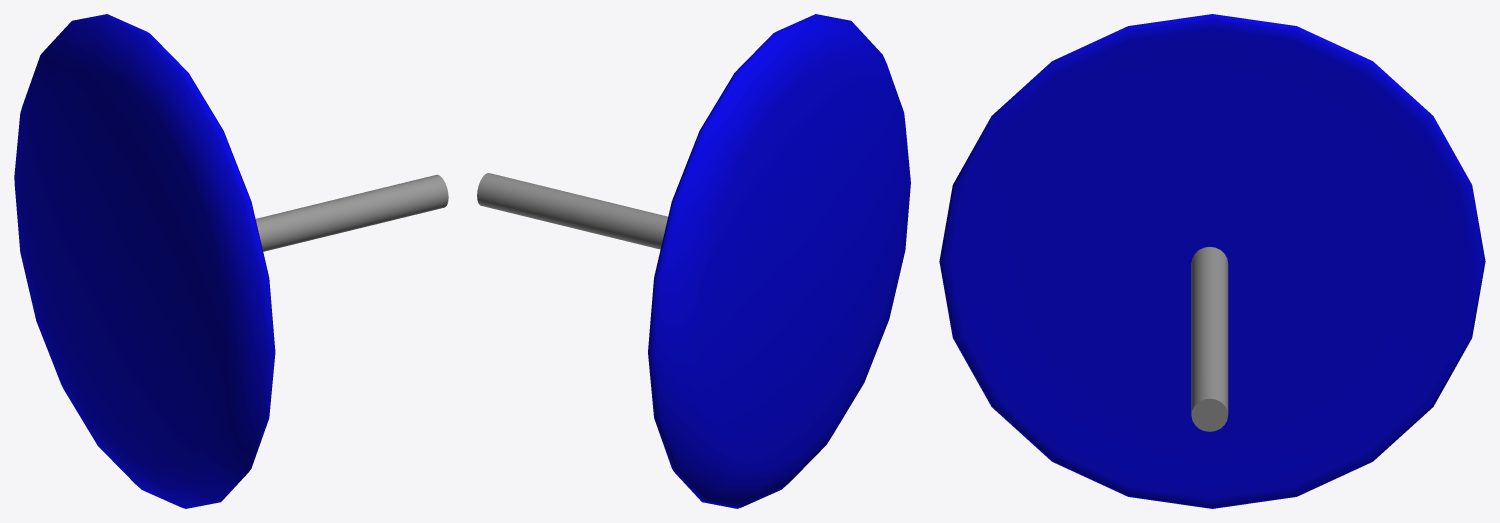
The model's file is punaise2.fbx.
3 renders of one model, left to right at view 1: azimuth 30°, elevation 25°; view 2: azimuth 150°, elevation 25°; view 3: azimuth 270°, elevation 25°, orthographic. The views are drawn at different scales.
Visible parts, largest first — view 1: pSphere7; view 2: pSphere7; view 3: pSphere7.
Part boxes in pixels (box(x1,y1,x2,y2)): pSphere7: box(14, 14, 448, 508); pSphere7: box(477, 14, 910, 508); pSphere7: box(939, 14, 1485, 508).
Bounding box in the file's own units: 1.49 × 2 × 2.
